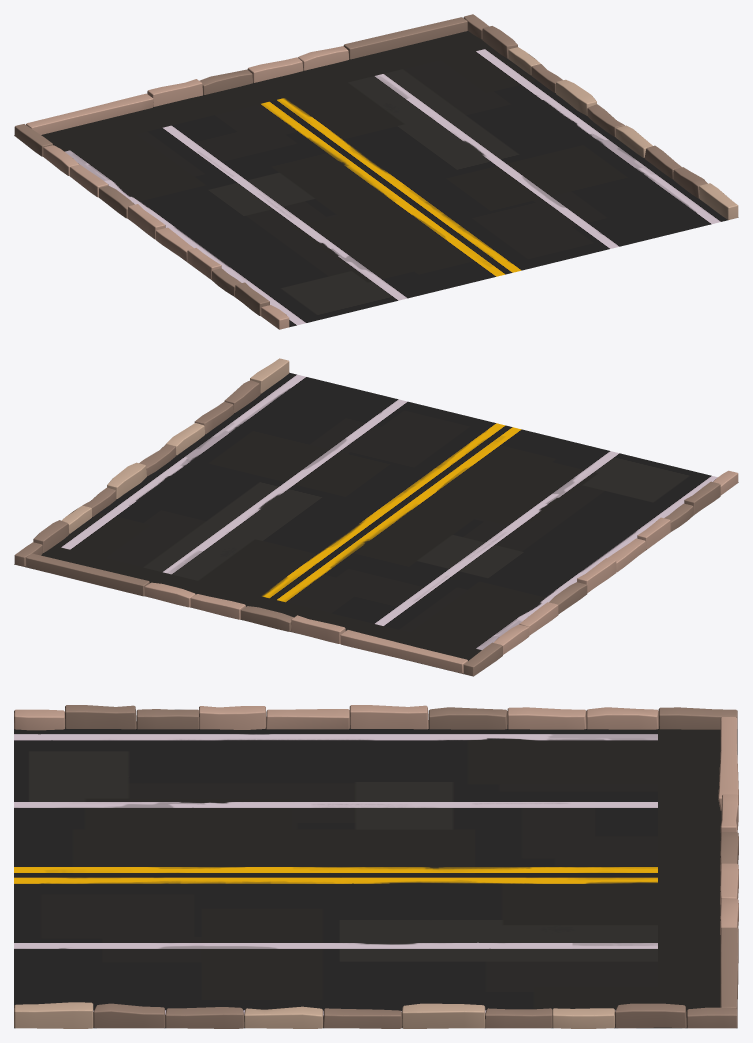
File: CityRoad_endWideRoad.fbx
3 views of the same model, one above another, from view 1: azimuth 30°, elevation 25°; view 2: azimuth 150°, elevation 25°; view 3: azimuth 270°, elevation 25° (orthographic). The views are drawn at different scales.
Visible parts, largest first — view 1: CityRoad_endWideRoad_mesh; view 2: CityRoad_endWideRoad_mesh; view 3: CityRoad_endWideRoad_mesh.
Boxes of the visible parts, bbox=[...] form: CityRoad_endWideRoad_mesh: bbox=[14, 14, 738, 329]; CityRoad_endWideRoad_mesh: bbox=[14, 358, 738, 676]; CityRoad_endWideRoad_mesh: bbox=[14, 705, 738, 1028].
Bounding box in the file's own units: 1008 × 28.55 × 1002.
